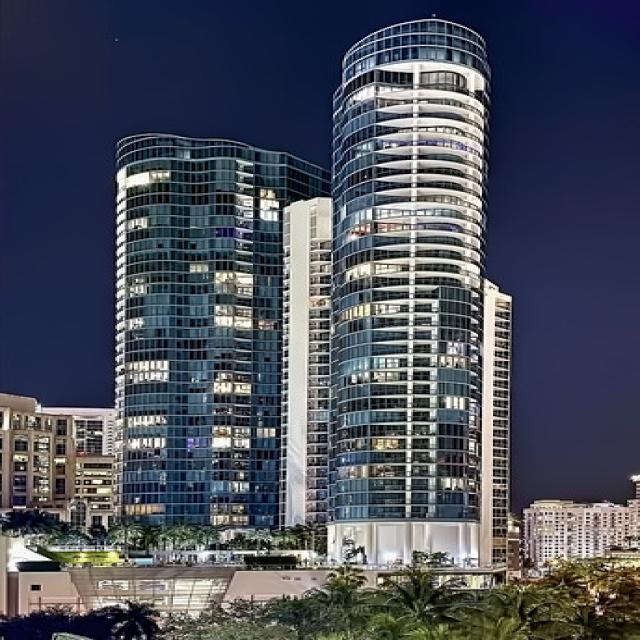building: (319, 9, 496, 577), (96, 116, 315, 568)
